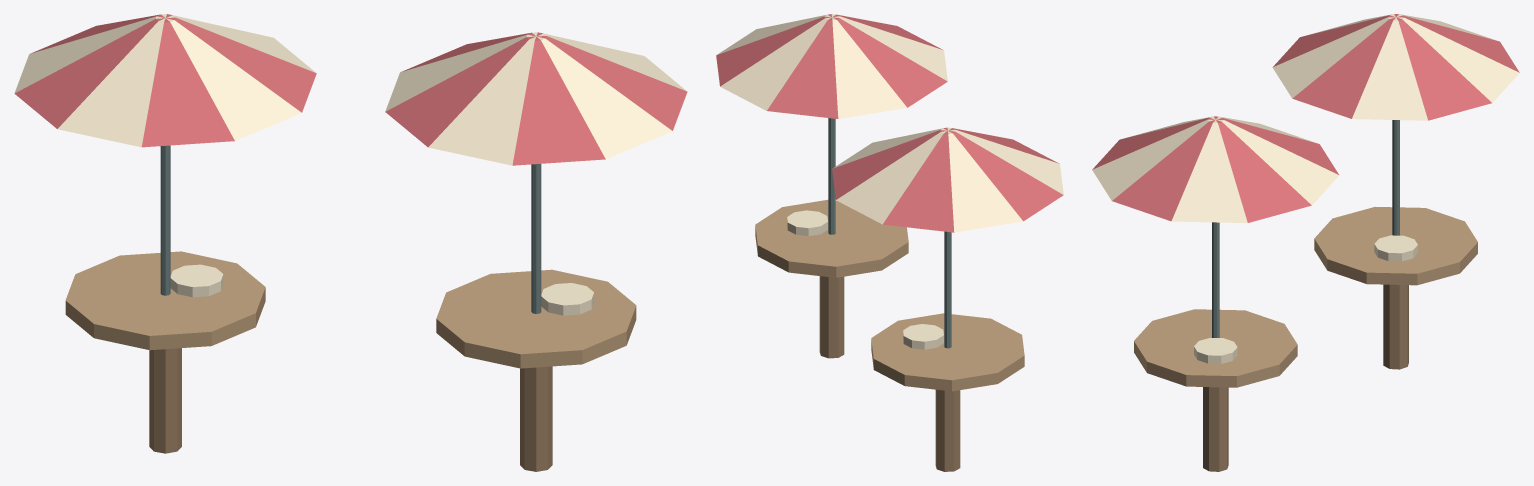
Rendered from CafeTerraceTables.glb.
3 renders of one model, left to right at view 1: azimuth 30°, elevation 25°; view 2: azimuth 150°, elevation 25°; view 3: azimuth 270°, elevation 25°, orthographic. The views are drawn at different scales.
Visible parts, largest first — view 1: CafeTerraceTables; view 2: CafeTerraceTables; view 3: CafeTerraceTables.
Part boxes in pixels (bbox=[...]): CafeTerraceTables: bbox=[14, 14, 687, 471]; CafeTerraceTables: bbox=[716, 14, 1063, 471]; CafeTerraceTables: bbox=[1092, 14, 1519, 471].
Size of the model in its own units: 2.64 by 2.1 by 2.35.
